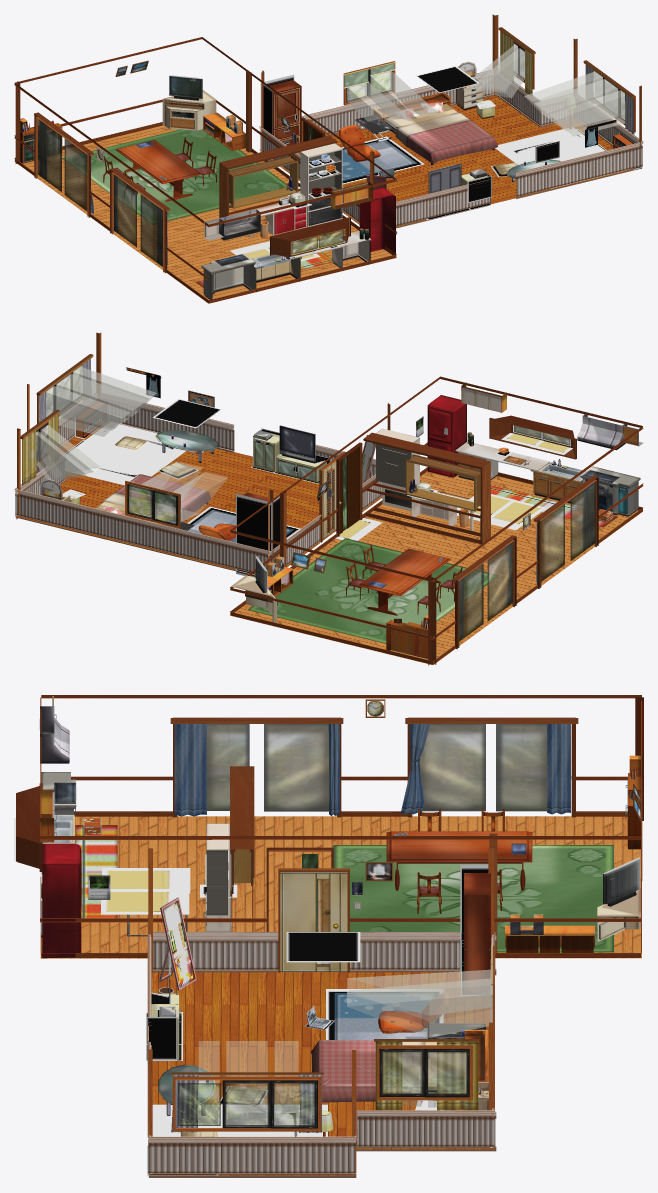
Rendered from house_interior3.glb.
The picture shows the model from 3 angles, top to bottom: view 1: azimuth 30°, elevation 25°; view 2: azimuth 150°, elevation 25°; view 3: azimuth 270°, elevation 25°; orthographic projection. The views are drawn at different scales.
Parts seen in each view (by area): view 1: Object_62, Object_8, Object_74, Object_6, Object_84, Object_13, Object_61, Object_27, Object_41, Object_67, Object_33, Object_37 (+28 smaller); view 2: Object_8, Object_62, Object_74, Object_6, Object_13, Object_27, Object_41, Object_61, Object_84, Object_96, Object_67, Object_55 (+26 smaller); view 3: Object_62, Object_8, Object_13, Object_61, Object_6, Object_74, Object_84, Object_41, Object_88, Object_27, Object_28, Object_70 (+24 smaller).
Boxes of the visible parts, box(x1,y1,x2,y2) form: Object_62: box(259, 70, 643, 228); Object_8: box(14, 125, 396, 303); Object_74: box(347, 44, 625, 136); Object_6: box(62, 129, 286, 223); Object_84: box(342, 31, 634, 181); Object_13: box(271, 95, 633, 227); Object_61: box(38, 119, 344, 266); Object_27: box(15, 70, 350, 272); Object_41: box(14, 37, 397, 303); Object_67: box(259, 66, 642, 220); Object_33: box(300, 143, 342, 226); Object_37: box(115, 140, 201, 201); Object_8: box(230, 471, 642, 664); Object_62: box(14, 393, 382, 575); Object_74: box(36, 366, 227, 522); Object_6: box(248, 538, 497, 643); Object_13: box(16, 423, 382, 569); Object_27: box(280, 415, 598, 665); Object_41: box(230, 376, 643, 664); Object_61: box(459, 425, 595, 641); Object_84: box(22, 359, 293, 542); Object_96: box(62, 422, 185, 498); Object_67: box(65, 367, 331, 577); Object_55: box(335, 433, 572, 540); Object_62: box(147, 932, 496, 1177); Object_8: box(40, 816, 641, 958); Object_13: box(149, 972, 494, 1175); Object_61: box(207, 724, 546, 811); Object_6: box(333, 845, 613, 952); Object_74: box(199, 969, 492, 1126); Object_84: box(171, 993, 478, 1132); Object_41: box(40, 695, 642, 957); Object_88: box(178, 879, 467, 1125); Object_27: box(16, 697, 643, 952); Object_28: box(174, 724, 571, 816); Object_70: box(148, 848, 494, 1172).
Size of what is drawn, in the model's own units: 753 by 133 by 563.
Materials: 77 (76 with a texture image).
